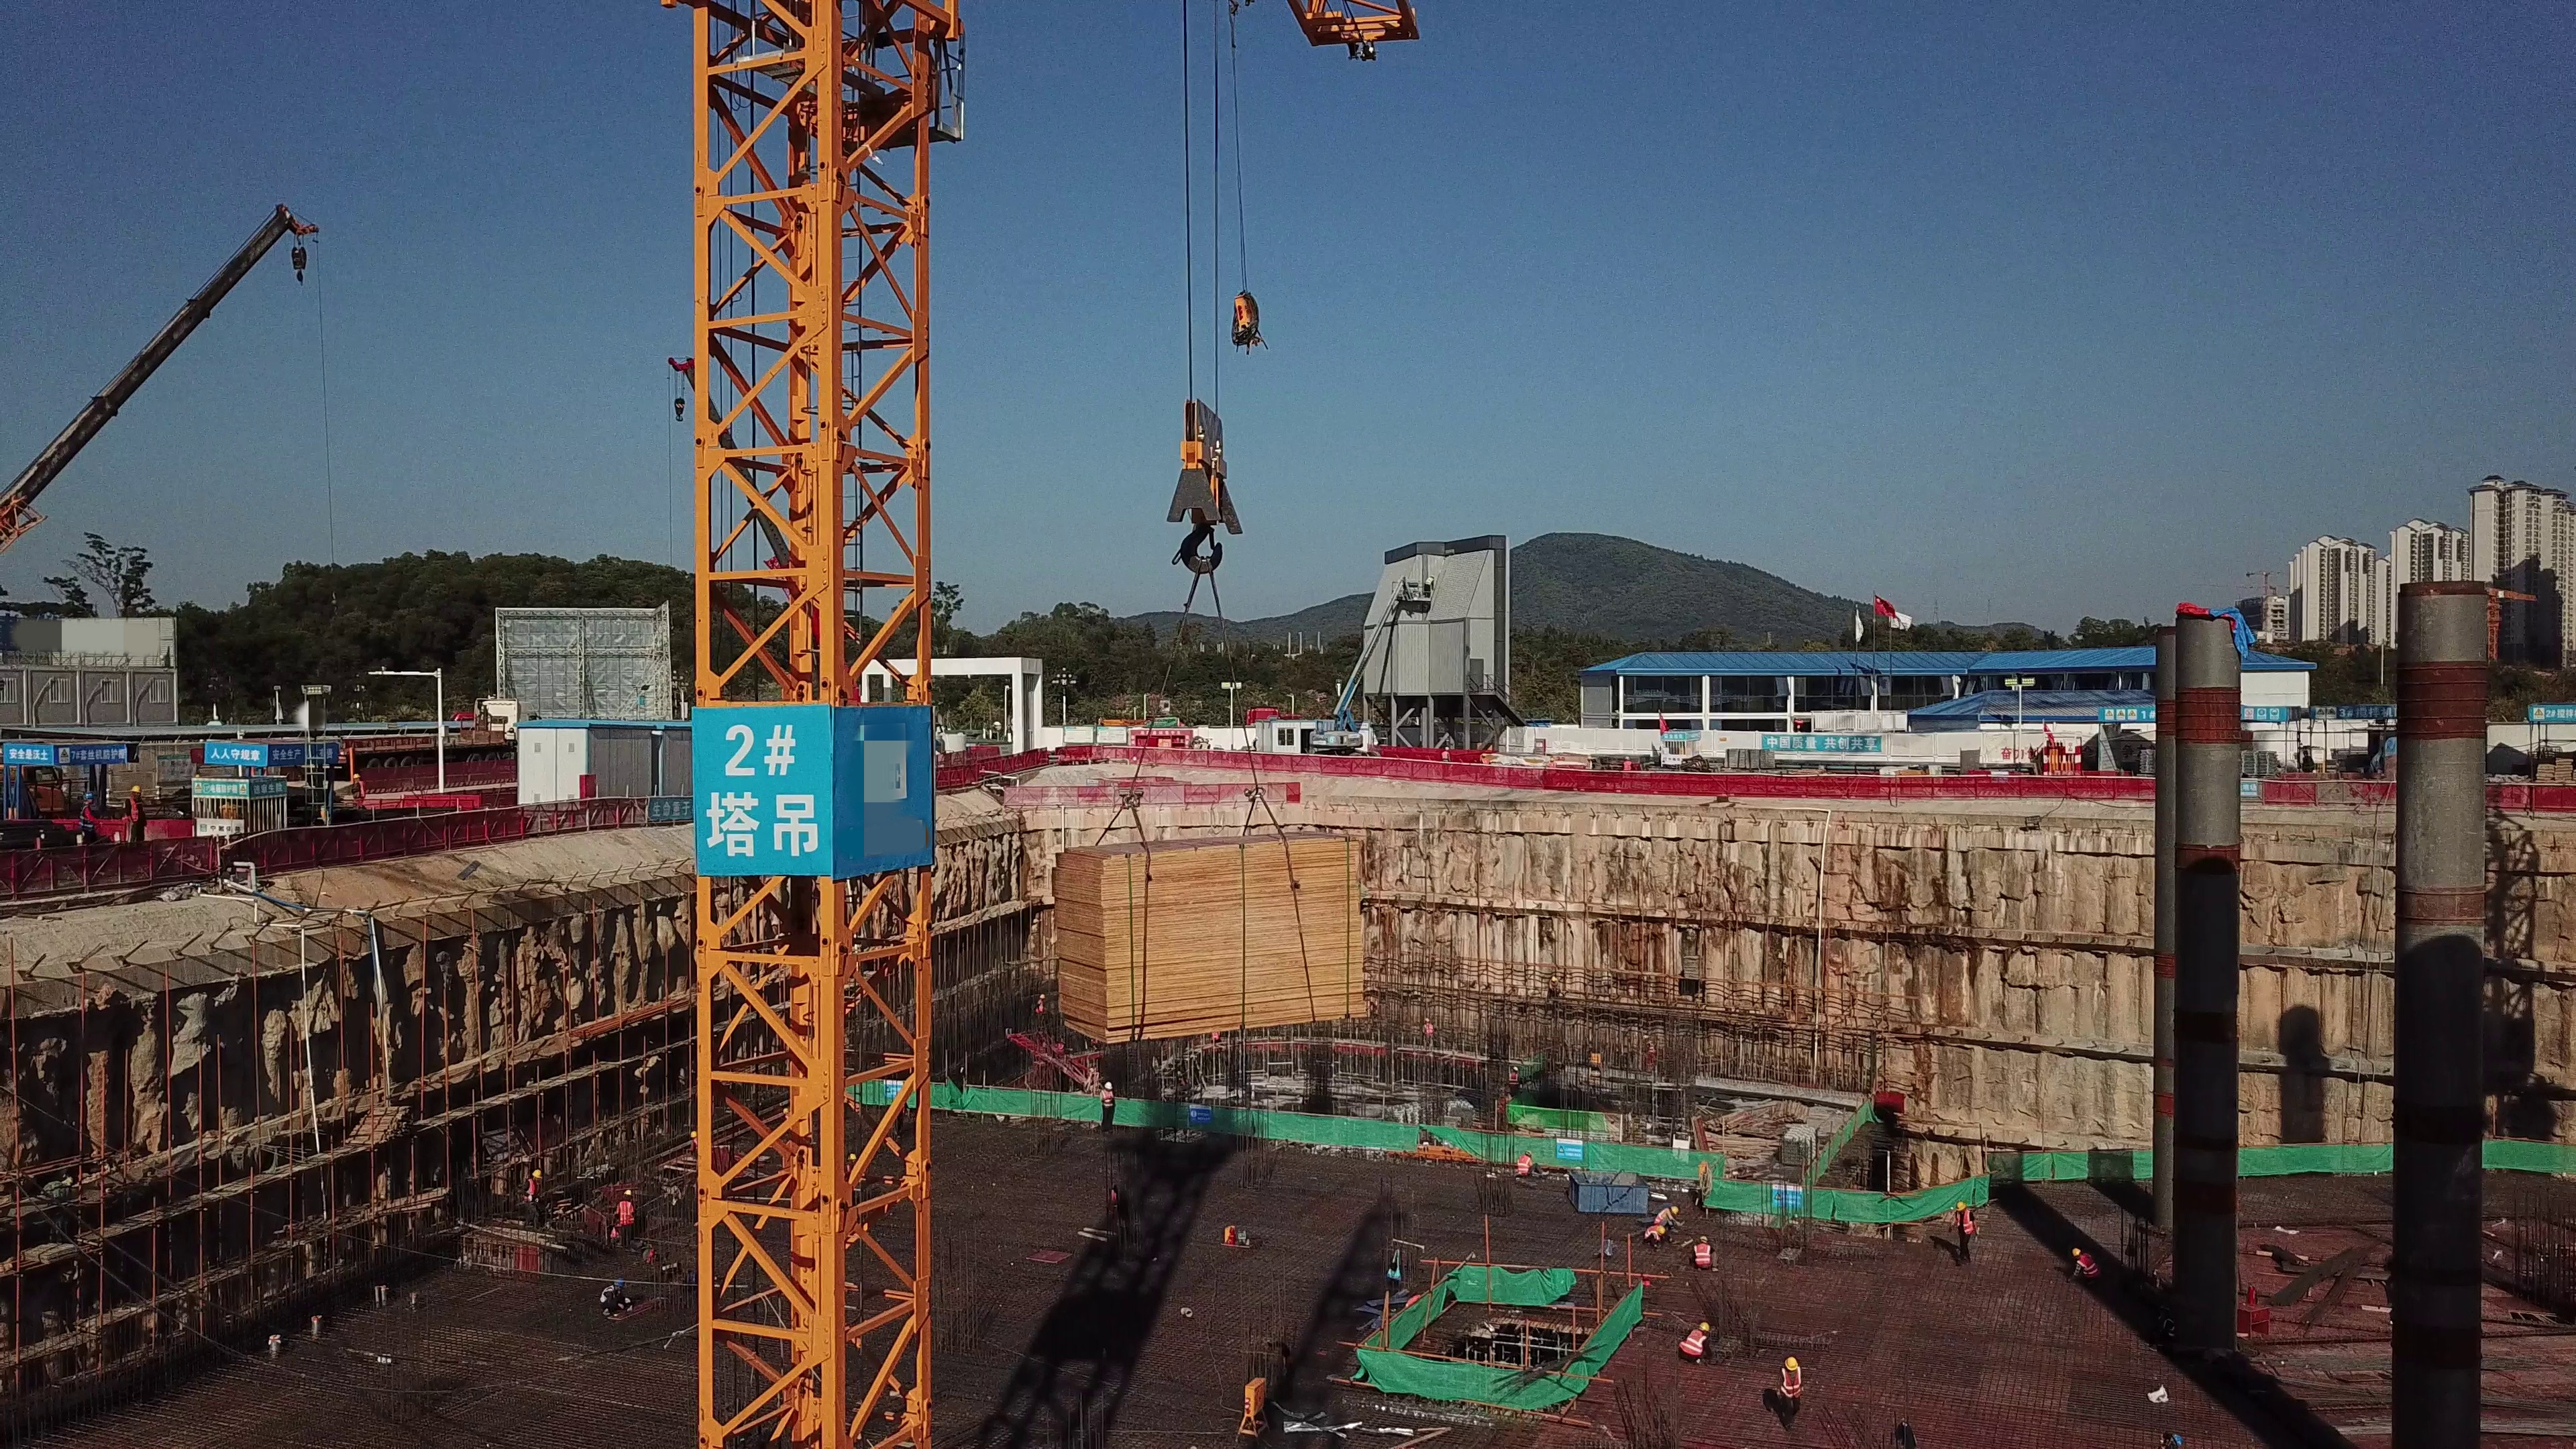board: (1061, 827, 1373, 1041)
brick: (1782, 1120, 1819, 1164), (1725, 744, 1774, 768)
ebox: (1228, 1369, 1270, 1438)
fence: (237, 798, 590, 842), (1668, 776, 2117, 803)
helmet: (1784, 1356, 1800, 1369), (1670, 1205, 1682, 1219), (130, 784, 145, 794), (1697, 1321, 1713, 1330), (1954, 1202, 1968, 1212), (531, 1169, 543, 1179), (613, 1277, 627, 1285), (83, 791, 95, 800), (1105, 1080, 1113, 1090), (625, 1189, 634, 1197), (848, 1153, 857, 1160), (2070, 1248, 2082, 1255), (352, 773, 362, 780), (1524, 1148, 1532, 1155), (1657, 1226, 1665, 1235), (1698, 1235, 1709, 1241), (690, 1129, 697, 1136), (1424, 1018, 1432, 1024), (1512, 1065, 1521, 1071), (1038, 994, 1046, 998)
hook: (1168, 398, 1242, 575), (282, 249, 316, 288), (672, 396, 686, 423)
hopper: (1568, 1170, 1647, 1215)
person: (1773, 1355, 1809, 1430), (1948, 1196, 1981, 1259), (612, 1188, 645, 1250), (122, 785, 154, 845), (1679, 1318, 1719, 1364), (517, 1166, 547, 1226), (596, 1276, 639, 1318), (77, 790, 104, 847), (1093, 1079, 1120, 1135), (1512, 1147, 1558, 1180), (1684, 1234, 1719, 1275), (2067, 1242, 2102, 1281), (1028, 989, 1048, 1026), (347, 773, 368, 807), (1652, 1203, 1685, 1224), (1419, 1016, 1438, 1046), (1640, 1224, 1668, 1246), (1503, 1065, 1527, 1089), (842, 1151, 861, 1181), (687, 1128, 703, 1151), (1435, 745, 1454, 762), (1619, 755, 1632, 771), (1543, 757, 1558, 769), (1479, 754, 1491, 765)
scaffold: (1396, 1095, 1479, 1126)
slogan: (692, 713, 831, 858), (1762, 735, 1882, 753), (271, 743, 337, 765), (643, 796, 698, 825), (205, 746, 270, 769), (60, 745, 129, 764), (2314, 705, 2395, 719), (2104, 709, 2159, 727), (199, 776, 245, 796), (10, 745, 53, 764), (252, 781, 295, 798)
vest: (1681, 1332, 1707, 1360), (1782, 1373, 1804, 1401), (127, 797, 149, 824), (80, 804, 97, 830), (619, 1201, 637, 1226), (598, 1286, 621, 1304), (1956, 1212, 1974, 1235), (1694, 1244, 1711, 1266), (2079, 1255, 2097, 1275), (525, 1179, 541, 1201), (1515, 1156, 1532, 1175), (1653, 1207, 1670, 1223), (1104, 1091, 1117, 1110), (1642, 1225, 1656, 1238), (354, 782, 365, 799), (1508, 1073, 1520, 1086), (1425, 1023, 1434, 1037), (1034, 998, 1044, 1011), (693, 1139, 699, 1149)
wood: (1725, 1102, 1783, 1167)
